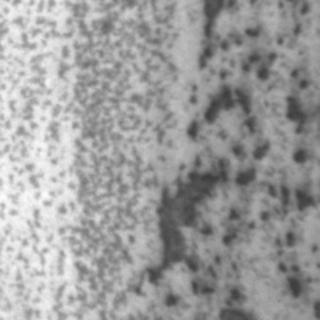patches: (146, 165, 224, 281)
pitted_surface: (3, 3, 177, 315), (160, 1, 316, 300)
